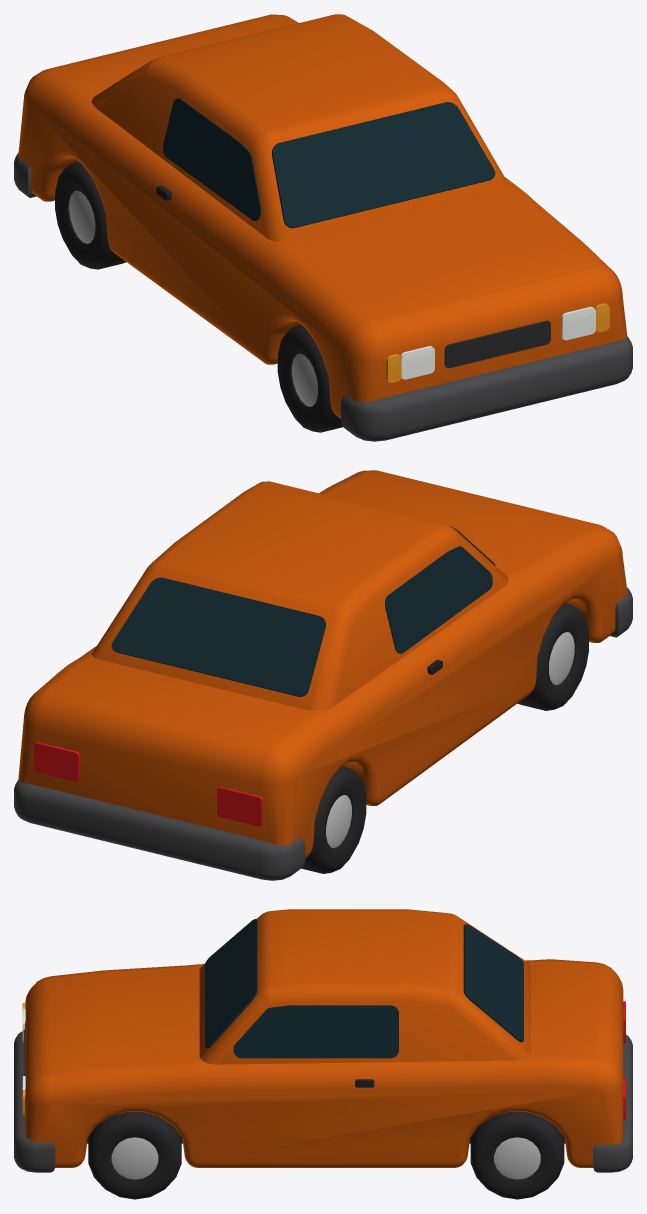
File: car_coupe.glb
3 views of the same model, one above another, from view 1: azimuth 30°, elevation 25°; view 2: azimuth 150°, elevation 25°; view 3: azimuth 270°, elevation 25° (orthographic). The views are drawn at different scales.
Visible parts, largest first — view 1: body, wheel_rear_right, wheel_front_right; view 2: body, wheel_front_right, wheel_rear_right; view 3: body, wheel_rear_left, wheel_front_left.
Part boxes in pixels (box(x1,y1,x2,y2)): body: box(14, 14, 632, 441); wheel_rear_right: box(55, 162, 126, 269); wheel_front_right: box(277, 325, 342, 432); body: box(14, 470, 632, 880); wheel_front_right: box(517, 603, 588, 710); wheel_rear_right: box(301, 766, 366, 873); body: box(14, 909, 632, 1172); wheel_rear_left: box(470, 1112, 564, 1199); wheel_front_left: box(88, 1112, 181, 1199).
Bounding box in the file's own units: 2 × 1.61 × 4.5.
